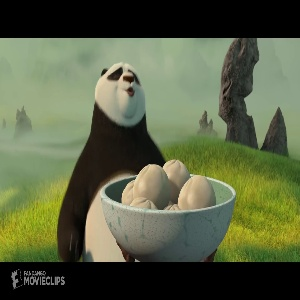po: (53, 60, 170, 263)
